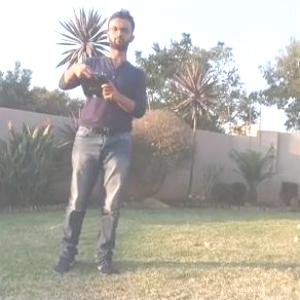follow: (47, 1, 149, 277)
